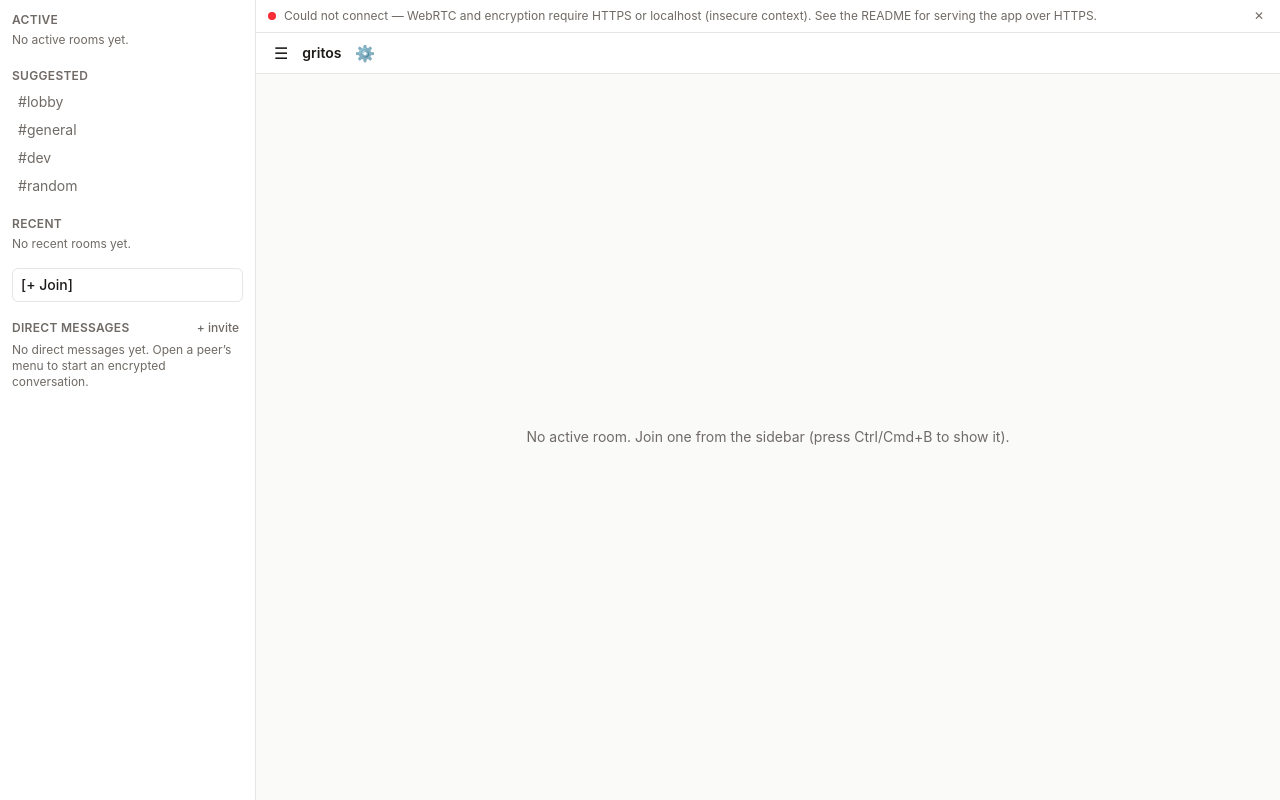
Test: insecure context on the returning-visitor path (issue #43) › the insecure-context notice can be dismissed
expect the text "Could not connect — WebRTC and encryption require HTTPS or localhost (insecure context). See the README for serving the " is shown: met, box [284,8,1097,23]
Click the button named "Dismiss the notice" at [1259, 16], box [1250,8,1268,24]
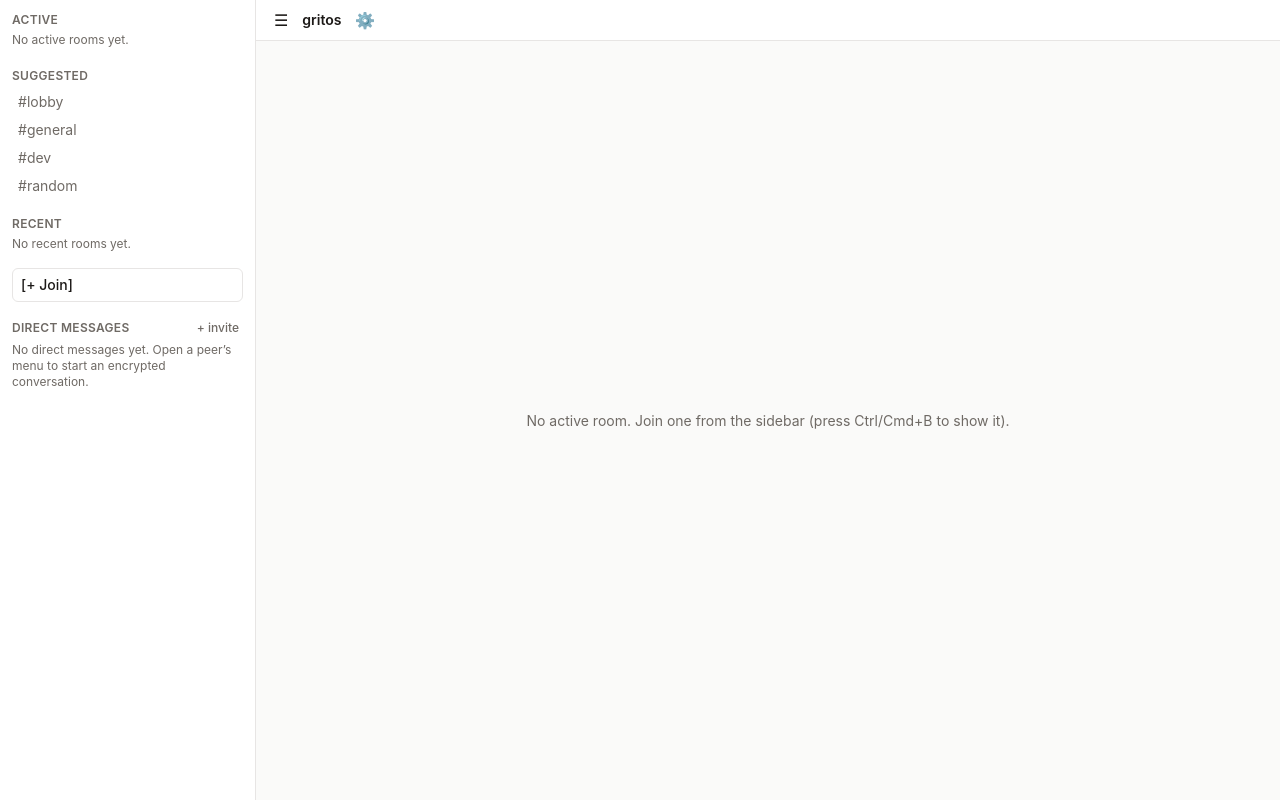
expect the text "Could not connect — WebRTC and encryption require HTTPS or localhost (insecure context). See the README for serving the " is gone: met
